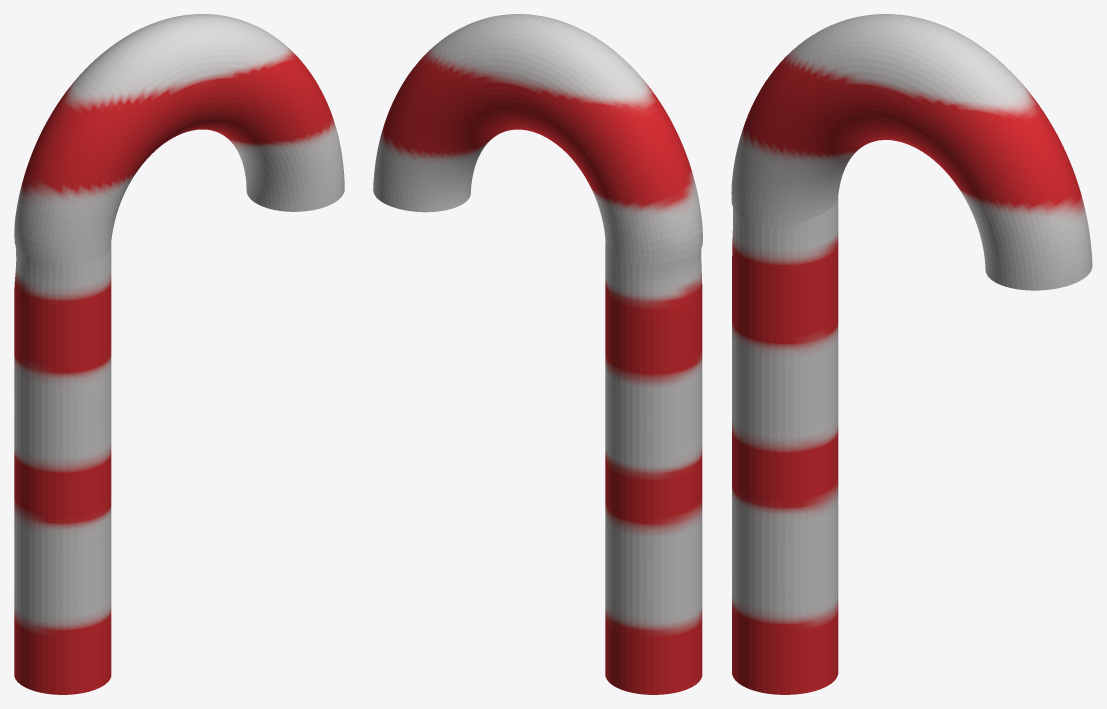
Rendered from decoration_5_2.glb.
3 renders of one model, left to right at view 1: azimuth 30°, elevation 25°; view 2: azimuth 150°, elevation 25°; view 3: azimuth 330°, elevation 25°, orthographic. The views are drawn at different scales.
Parts seen in each view (by area): view 1: Cylinder; view 2: Cylinder; view 3: Cylinder.
Part boxes in pixels (x1=…): Cylinder: x1=14, y1=14, x2=344, y2=694; Cylinder: x1=373, y1=14, x2=702, y2=694; Cylinder: x1=731, y1=14, x2=1092, y2=694.
Bounding box in the file's own units: 0.4697 × 0.8856 × 0.1301.
